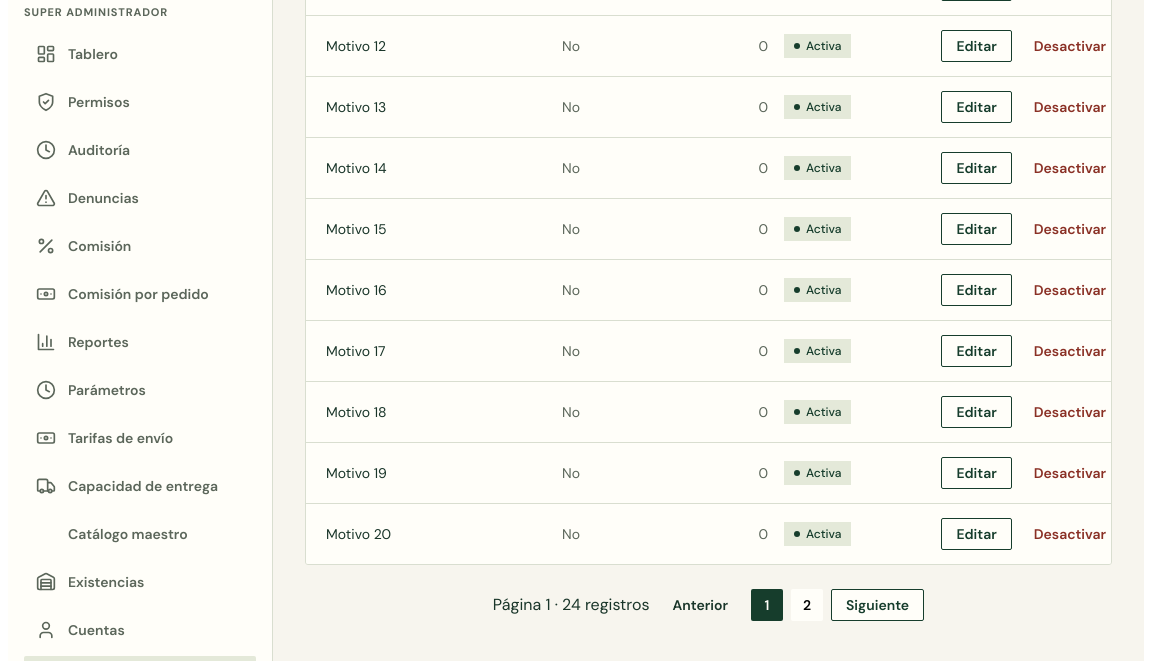
it: Paginacion local de motivos merma › navega más de 20 motivos y el resumen conserva el total completo
(page scrolled)
Expected: the text "Motivo 21" is not shown
Click the button "Siguiente". click: (878, 605)
box: [831,589,924,621]
(page scrolled)
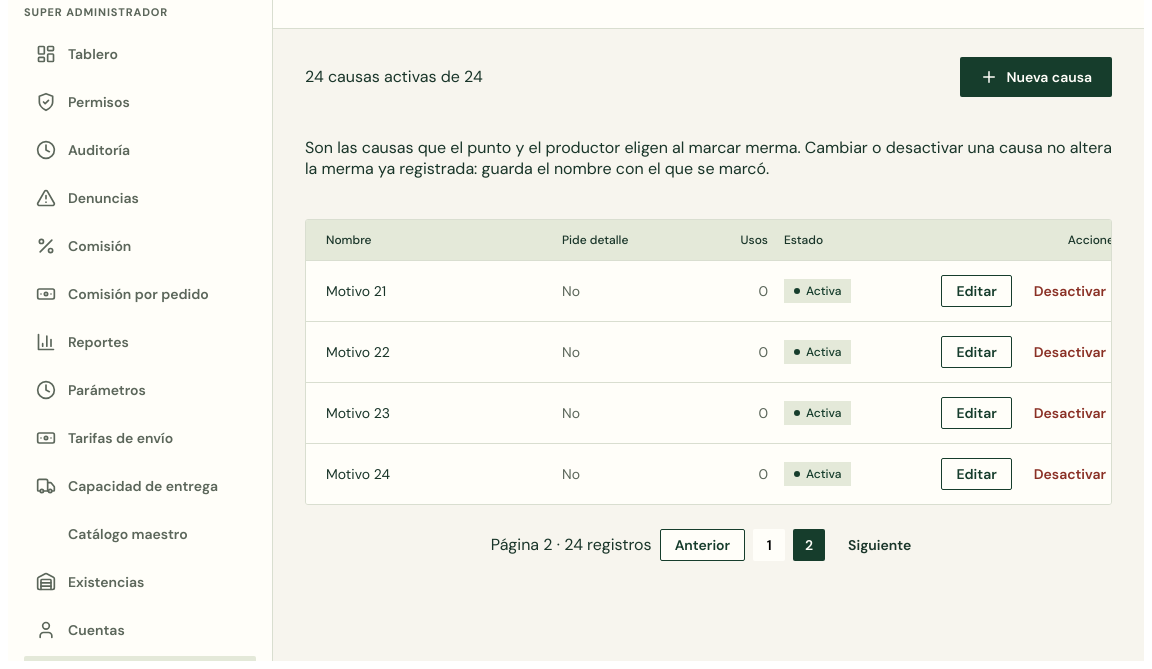
Expected: the text "24 causas activas de 24" is shown, [305,66,483,87]
Result: the text "Motivo 21" is shown at [326,282,386,300]
